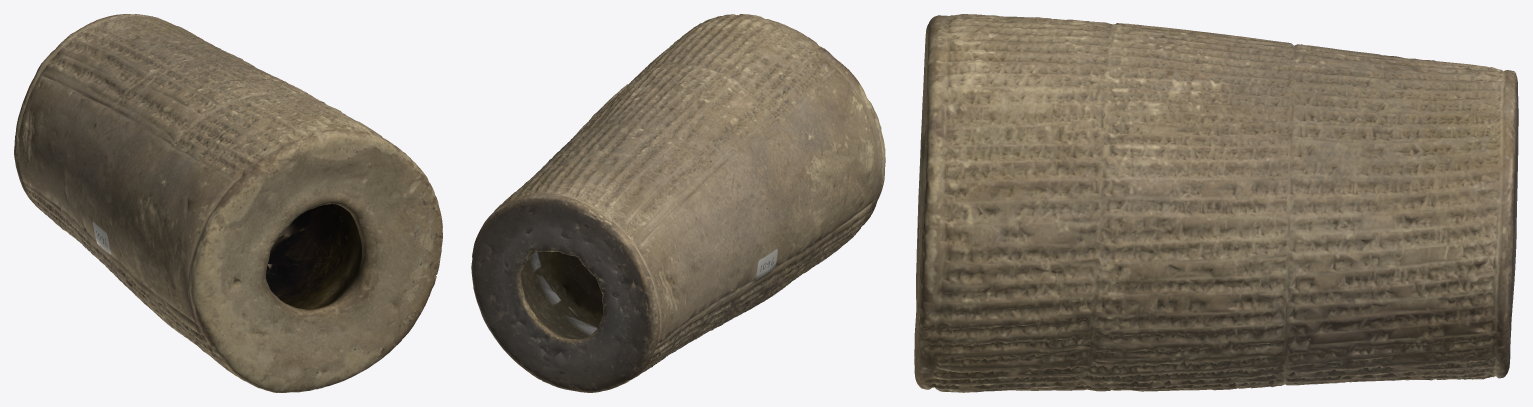
File: nebuchadnezzar_cylinder_cuneiform_1096.glb
The picture shows the model from 3 angles, left to right: view 1: azimuth 30°, elevation 25°; view 2: azimuth 150°, elevation 25°; view 3: azimuth 270°, elevation 25°; orthographic projection. The views are drawn at different scales.
Parts seen in each view (by area): view 1: Cuneiform1096_RCProject_Blender_LowPoly100k_Baked_0; view 2: Cuneiform1096_RCProject_Blender_LowPoly100k_Baked_0; view 3: Cuneiform1096_RCProject_Blender_LowPoly100k_Baked_0.
Part boxes in pixels (x1,y1,x2,y2): Cuneiform1096_RCProject_Blender_LowPoly100k_Baked_0: (14,14,442,392); Cuneiform1096_RCProject_Blender_LowPoly100k_Baked_0: (471,14,885,392); Cuneiform1096_RCProject_Blender_LowPoly100k_Baked_0: (914,14,1518,392).
Size of the model in its own units: 0.1561 by 0.1521 by 0.2426.
Materials: 1 (1 with a texture image).
